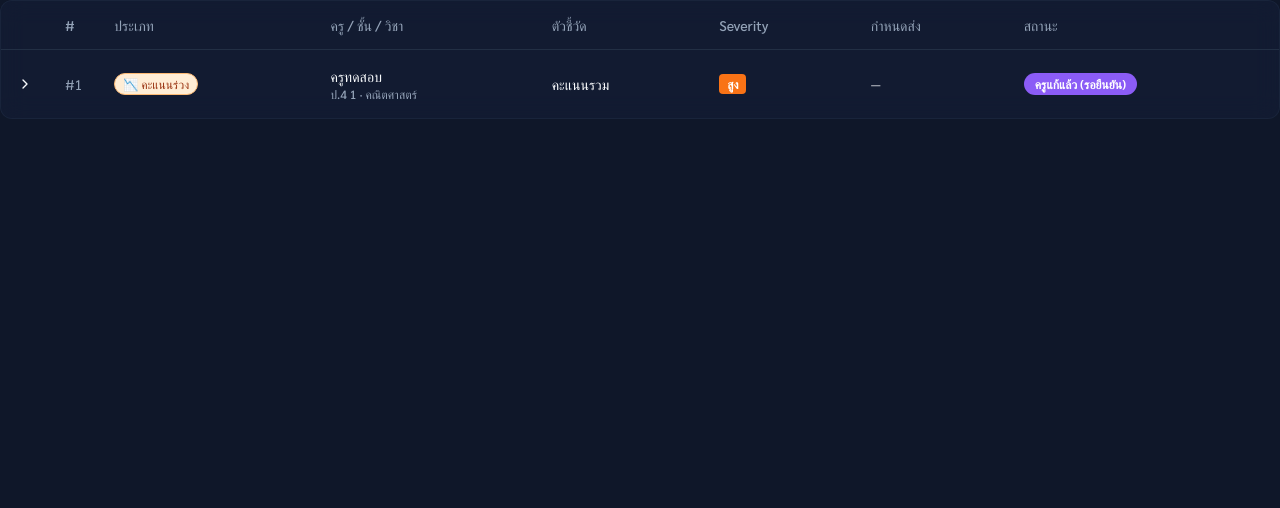
Test case: ActionTable — WP-S0.1 resolved case does not invite Verify › shows a waiting-for-monitoring state instead of a Verify button
// Expand the row to reveal the action buttons.
Step 1. Click the text "ครูทดสอบ" → [356, 76], box [330, 66, 382, 86]
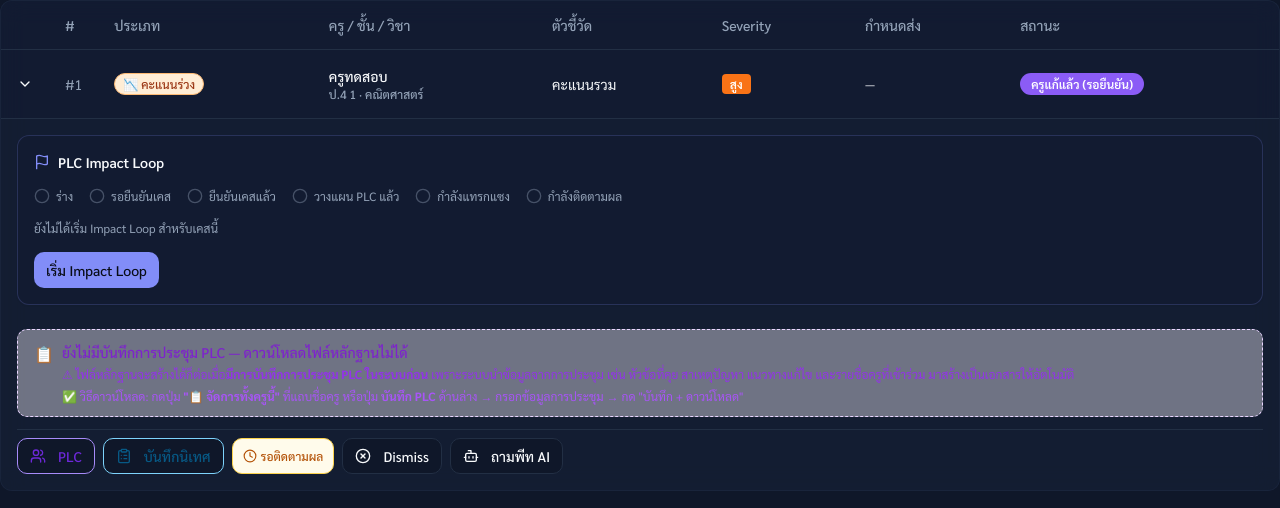
Expected: the text "รอติดตามผล" is shown, [232, 438, 334, 474]
